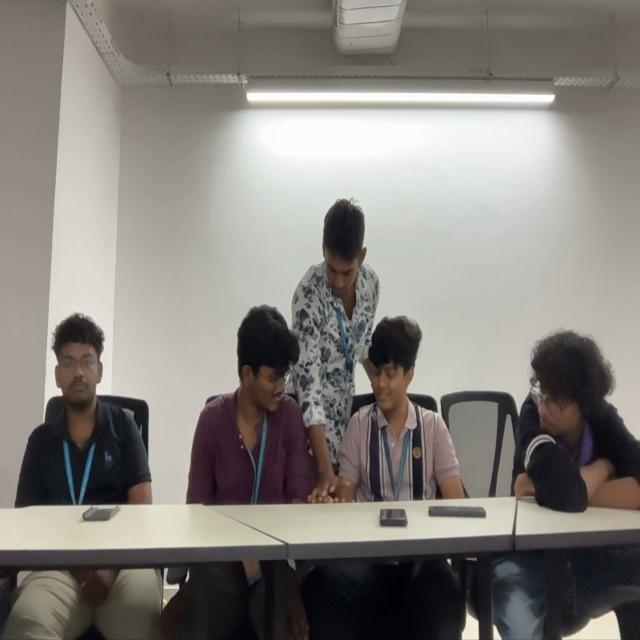Isolated: (19, 313, 153, 506), (513, 331, 640, 505)
socializing: (188, 199, 460, 503)
